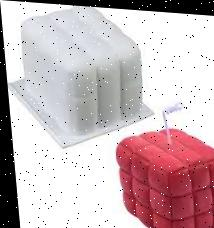cube: (111, 122, 214, 228)
